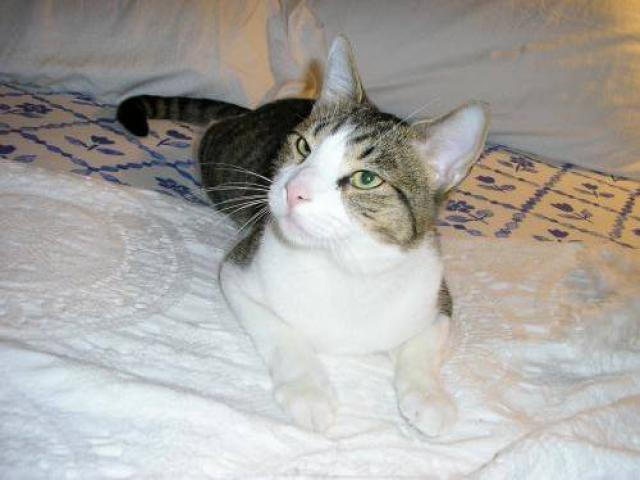cat: (187, 18, 493, 444)
